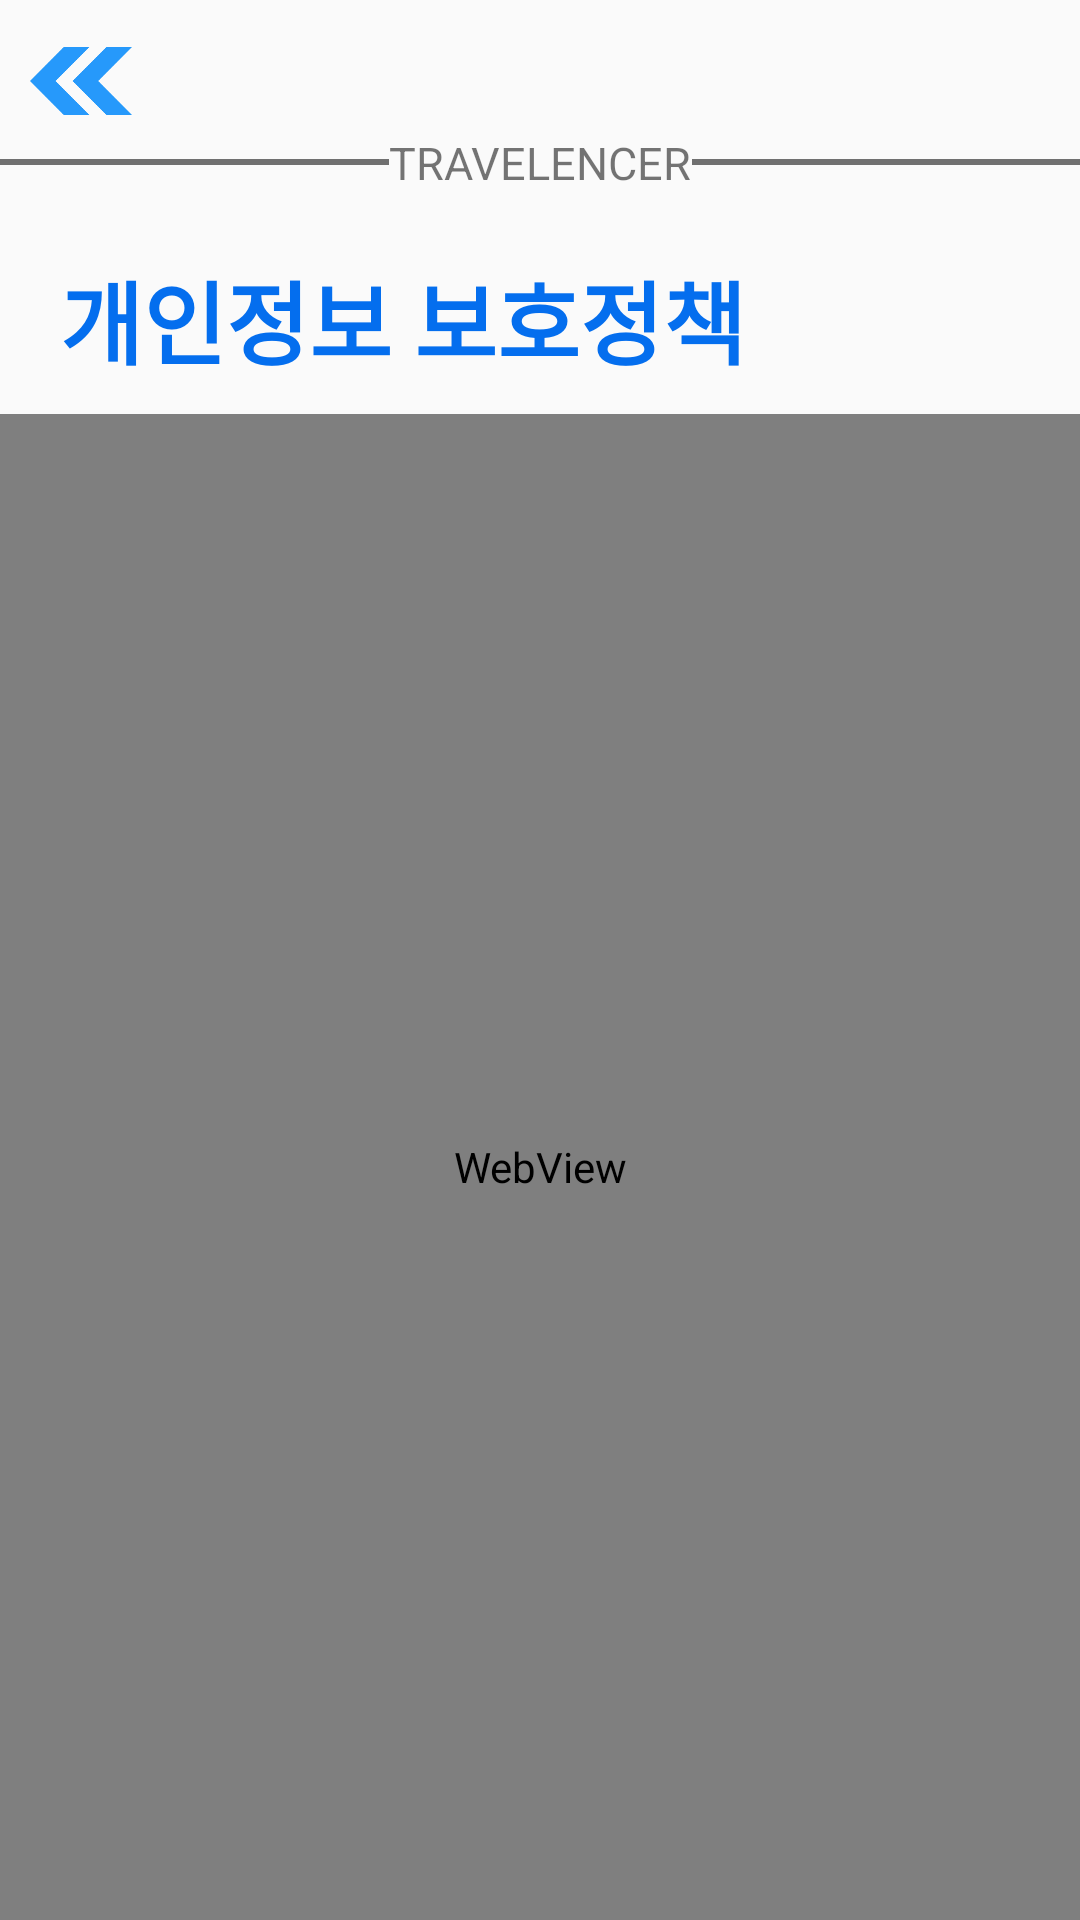

Named icons in this screenshot (1080 x 1920) and their bounding boxes, (x1, y1, x2, y2):
double arrow: (30, 47, 132, 115)
